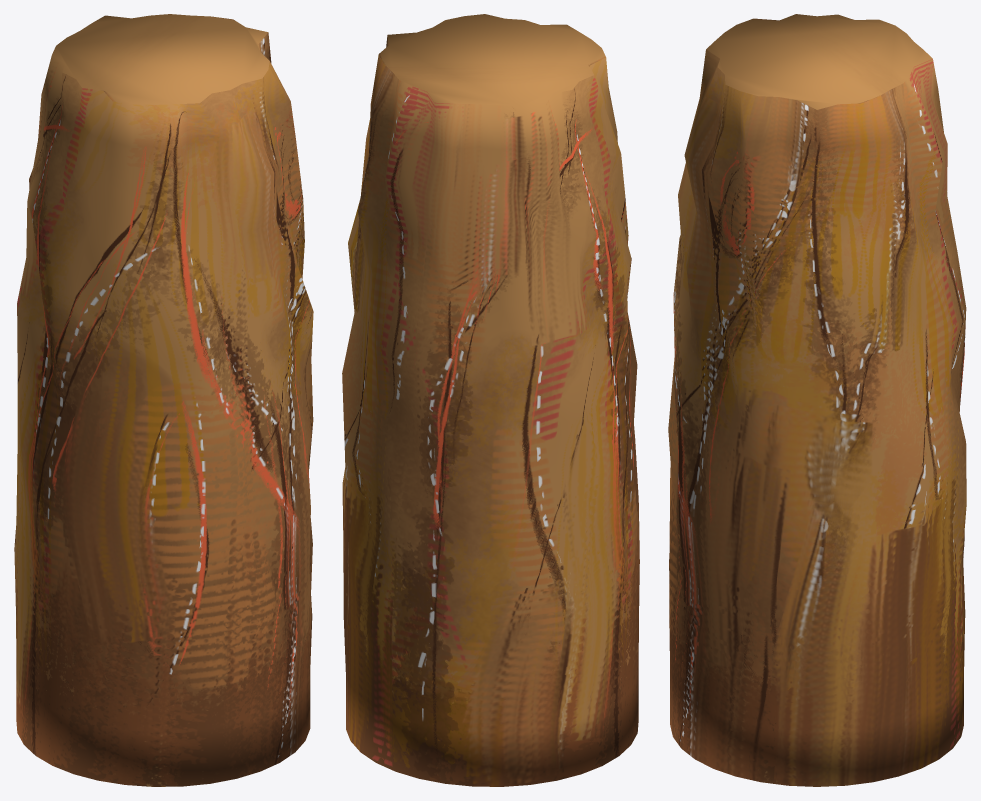
The model's file is Tree test.glb.
3 renders of one model, left to right at view 1: azimuth 30°, elevation 25°; view 2: azimuth 150°, elevation 25°; view 3: azimuth 270°, elevation 25°, orthographic.
Visible parts, largest first — view 1: Tree; view 2: Tree; view 3: Tree.
Part boxes in pixels (<box>): Tree: <box>14,14,313,786</box>; Tree: <box>342,14,639,786</box>; Tree: <box>668,14,966,786</box>.
Bounding box in the file's own units: 2.03 × 5 × 2.03.
1 material, 1 textured.
